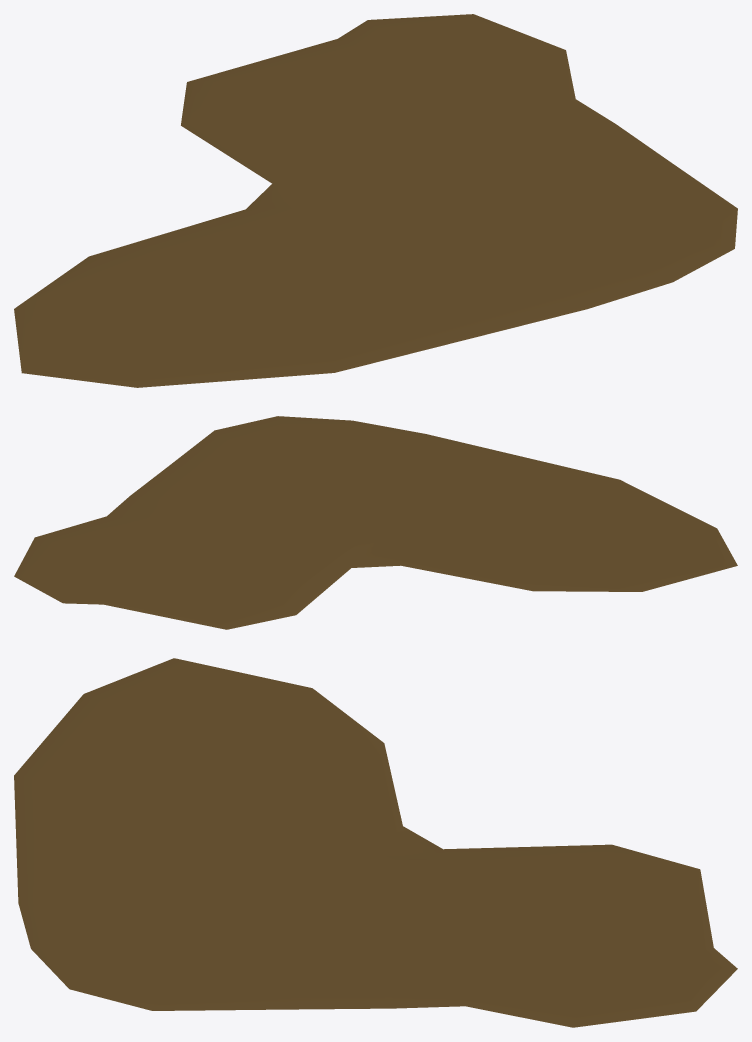
Rendered from Dirt_4.fbx.
3 renders of one model, top to bottom at view 1: azimuth 30°, elevation 25°; view 2: azimuth 150°, elevation 25°; view 3: azimuth 270°, elevation 25°, orthographic. The views are drawn at different scales.
Visible parts, largest first — view 1: Dirt4; view 2: Dirt4; view 3: Dirt4.
Part boxes in pixels (x1,y1,x2,y2): Dirt4: (14, 14, 737, 387); Dirt4: (14, 416, 737, 629); Dirt4: (14, 658, 737, 1027).
Size of the model in its own units: 4524 by 8.87 by 3746.
Materials: 1 (1 with a texture image).
